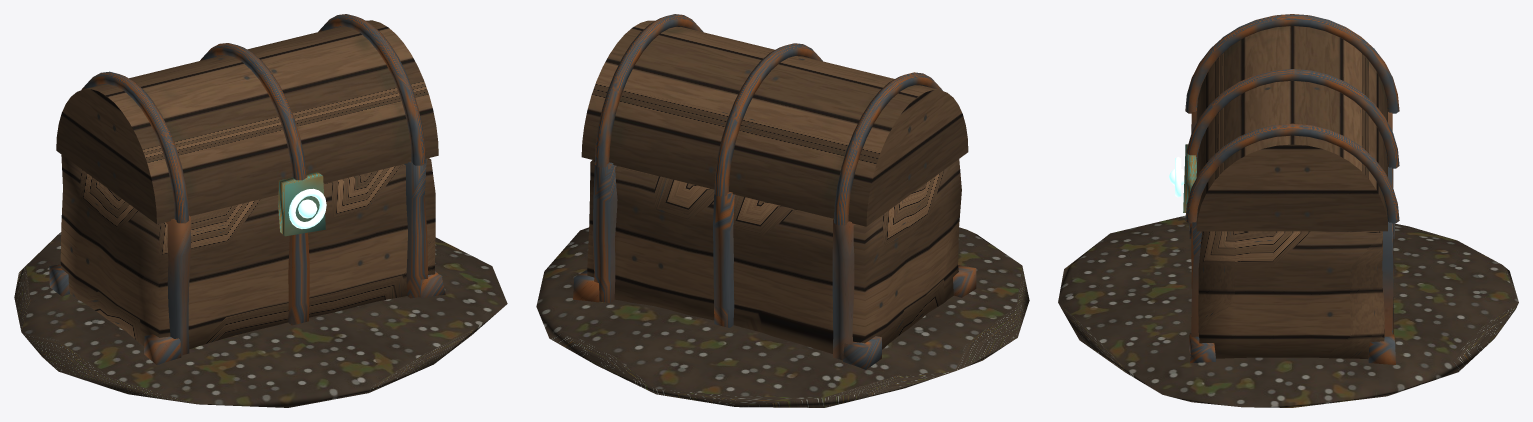
The model's file is sealed_treasure_chest.glb.
The picture shows the model from 3 angles, left to right: view 1: azimuth 30°, elevation 25°; view 2: azimuth 150°, elevation 25°; view 3: azimuth 270°, elevation 25°; orthographic projection. The views are drawn at different scales.
Visible parts, largest first — view 1: sealed_treasure_chest__wood, sealed_treasure_chest__soil, sealed_treasure_chest__iron, sealed_treasure_chest__bronze, sealed_treasure_chest__glow_core; view 2: sealed_treasure_chest__wood, sealed_treasure_chest__soil, sealed_treasure_chest__iron; view 3: sealed_treasure_chest__wood, sealed_treasure_chest__soil, sealed_treasure_chest__iron, sealed_treasure_chest__bronze.
Part boxes in pixels (box(x1,y1,x2,y2)): sealed_treasure_chest__wood: box(56, 20, 438, 348); sealed_treasure_chest__soil: box(14, 232, 507, 407); sealed_treasure_chest__iron: box(49, 14, 445, 364); sealed_treasure_chest__bronze: box(278, 172, 325, 236); sealed_treasure_chest__glow_core: box(288, 188, 326, 228); sealed_treasure_chest__wood: box(581, 20, 968, 353); sealed_treasure_chest__soil: box(536, 227, 1029, 407); sealed_treasure_chest__iron: box(573, 14, 976, 369); sealed_treasure_chest__wood: box(1196, 14, 1387, 358); sealed_treasure_chest__soil: box(1058, 215, 1518, 407); sealed_treasure_chest__iron: box(1185, 14, 1399, 364); sealed_treasure_chest__bronze: box(1183, 144, 1196, 212).
Size of the model in its own units: 1.54 by 0.8686 by 1.49.
Materials: 5 (4 with a texture image).
